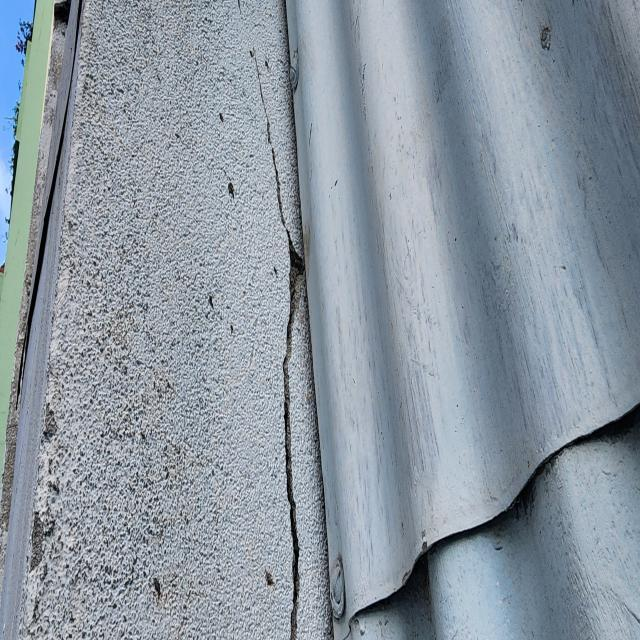SurfaceCrack: (323, 338, 640, 639), (222, 1, 358, 640), (0, 1, 94, 639)
